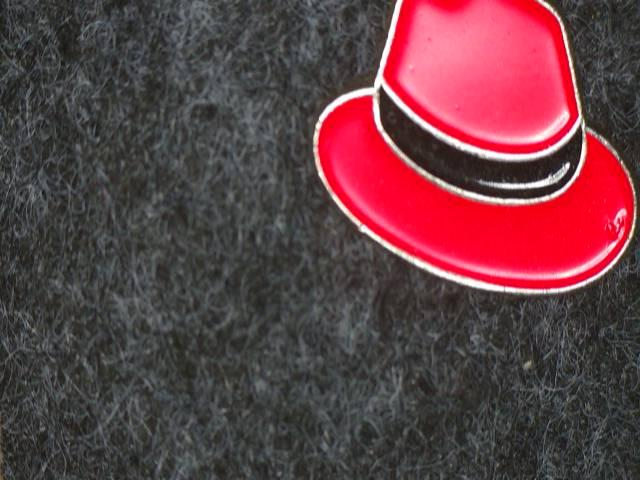Red-Hat: (281, 0, 640, 318)
